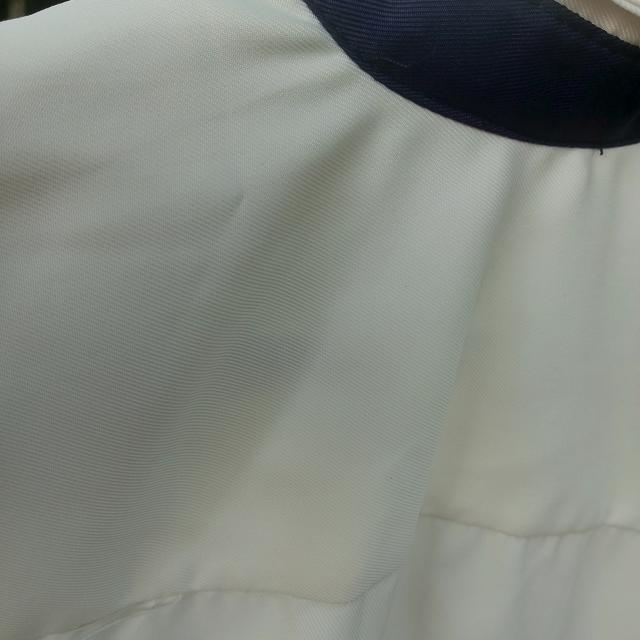education_male_uniform: (166, 0, 640, 512)
